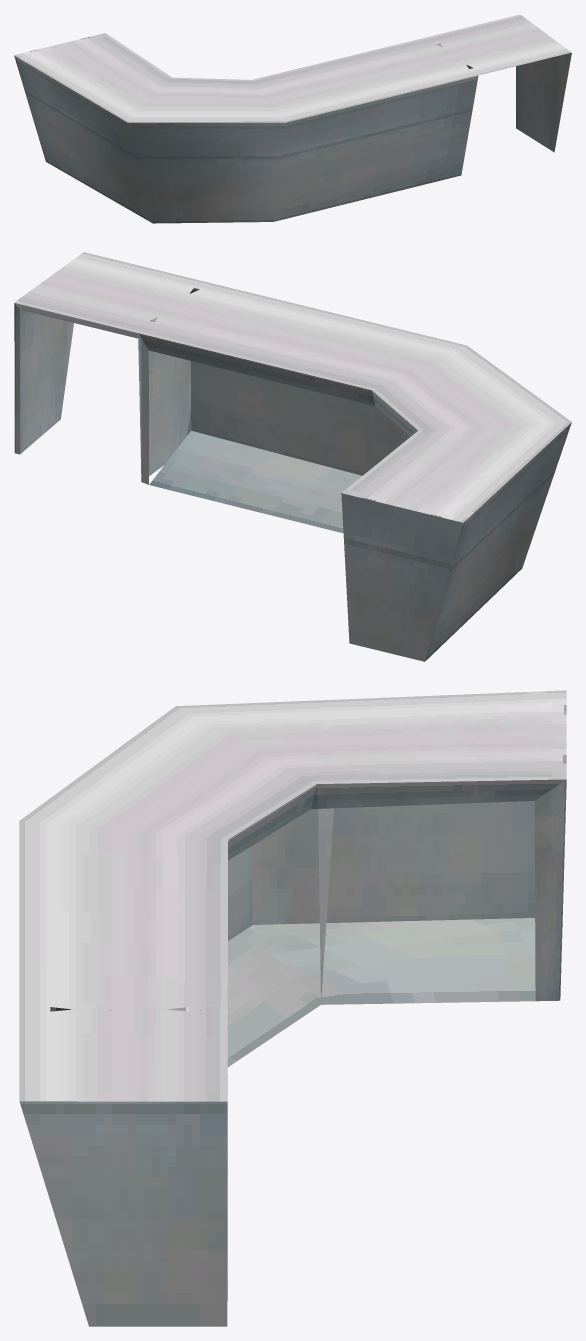
File: frn_bar_piece_curve_s2_l3.fbx
The picture shows the model from 3 angles, top to bottom: view 1: azimuth 30°, elevation 25°; view 2: azimuth 150°, elevation 25°; view 3: azimuth 270°, elevation 25°; orthographic projection. The views are drawn at different scales.
Parts seen in each view (by area): view 1: mesh_node; view 2: mesh_node; view 3: mesh_node.
Part boxes in pixels (x1,y1,x2,y2): mesh_node: [14, 14, 571, 223]; mesh_node: [14, 252, 571, 661]; mesh_node: [19, 690, 566, 1326].
Size of the model in its own units: 4.5 by 1.17 by 2.53.
1 material, 1 textured.
